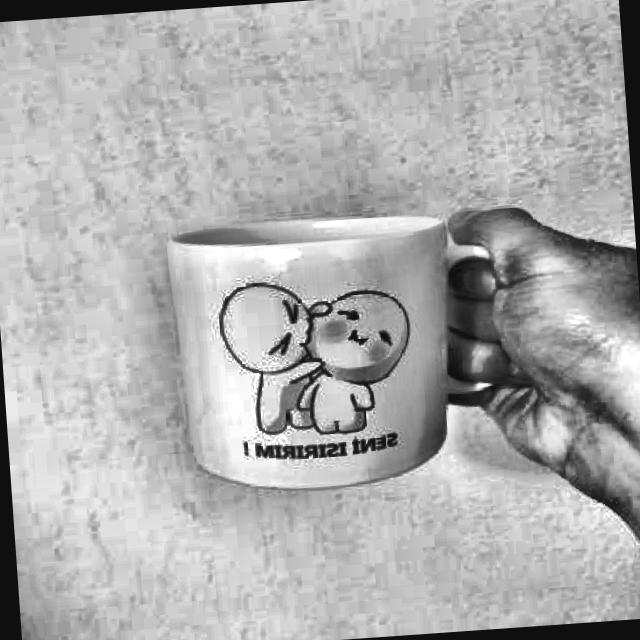Mug: (166, 204, 521, 502)
